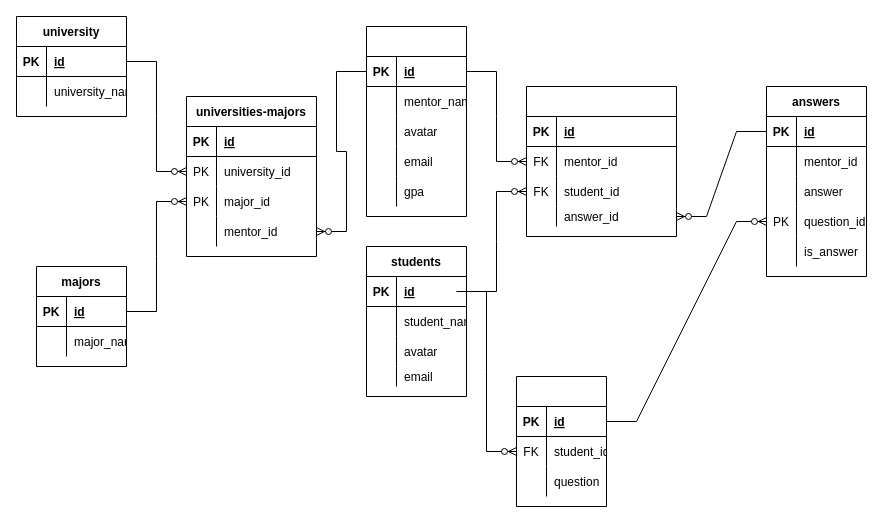
This 883x523 diagram has some shape labels left out. Here are the shapes that lost their labels. From the top down, the box of each, then its label:
(366, 26, 466, 216): mentors
(526, 86, 676, 236): students-mentor-bridge
(516, 376, 606, 506): questions
